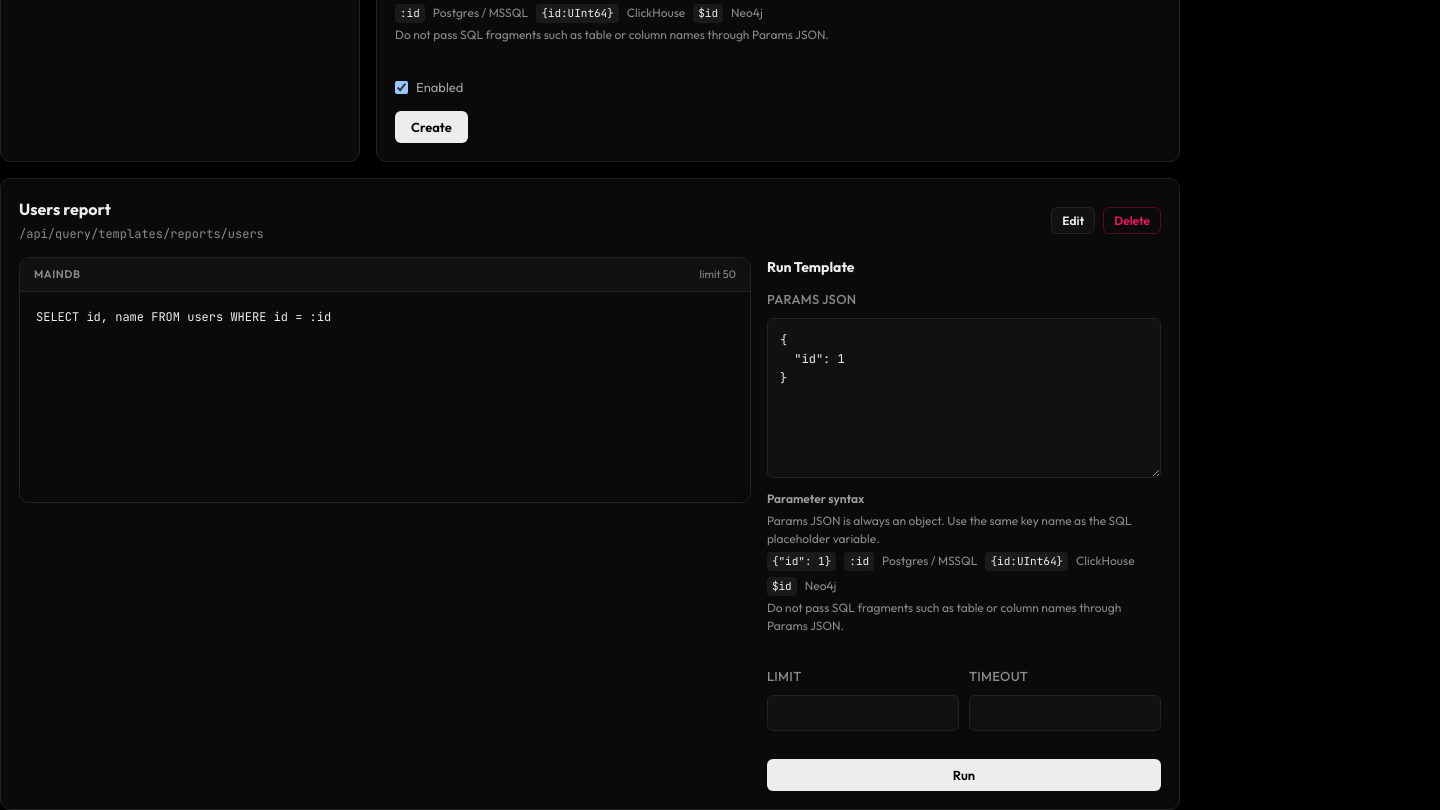
it: QueryTemplates › renders saved templates and runs the selected template
(page scrolled)
Expected: the element with id "template-run-params-help" shows "Params JSON is always an object.", [767,513,1132,546]
Click the button "Run".
click(964, 775)  # box [767,759,1161,791]
(page scrolled)
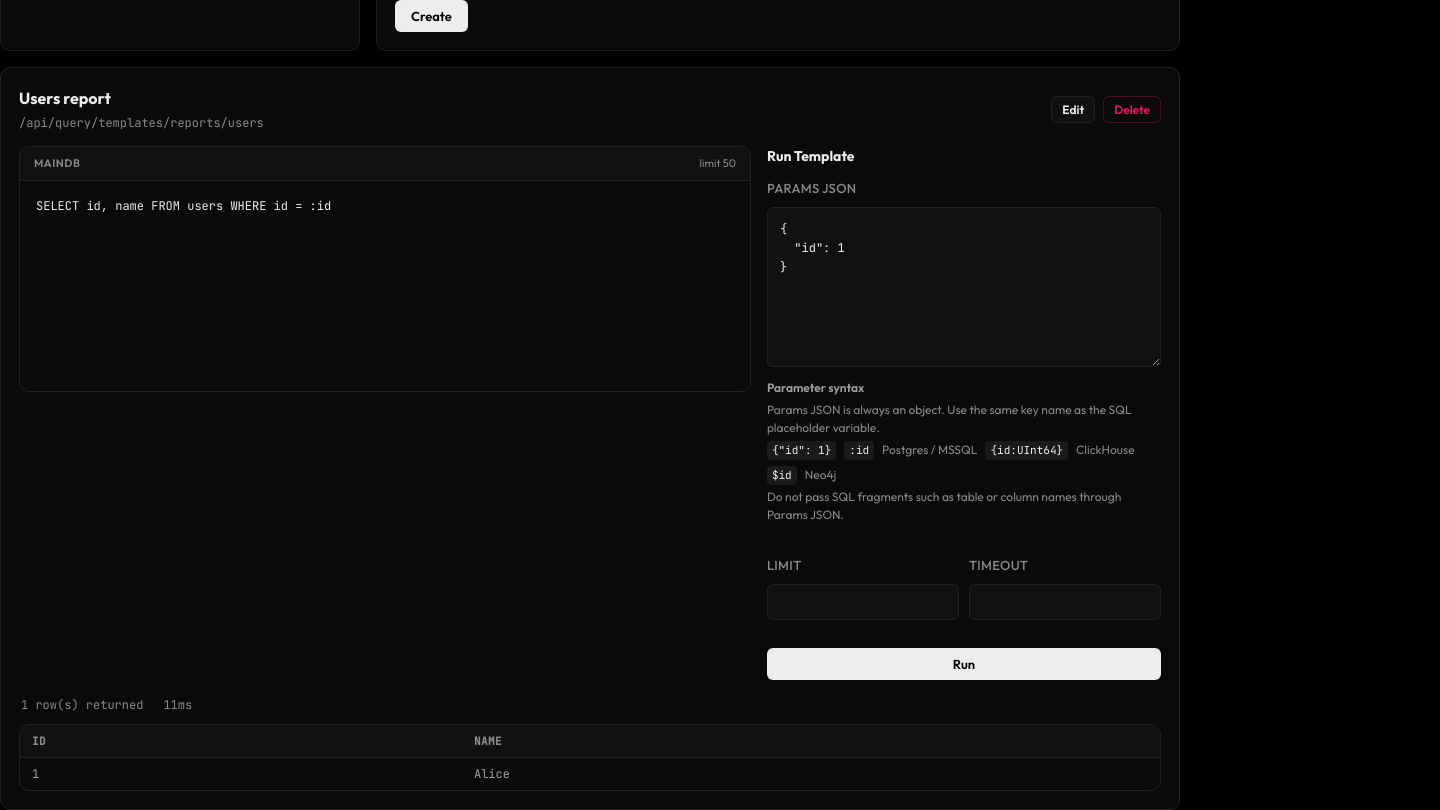
Expected: the text "Alice" is shown, [462,758,1160,790]
Expected: the message shows "1 row(s) returned", [21,697,143,713]
